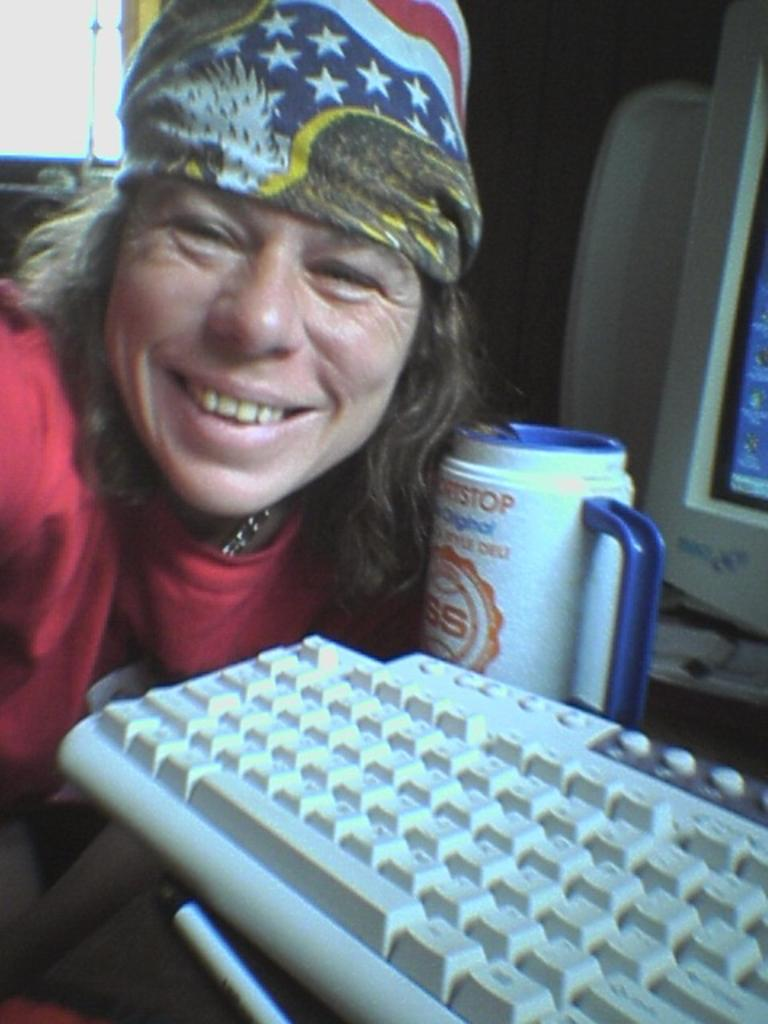Computer-keyboard: (50, 629, 766, 1022)
